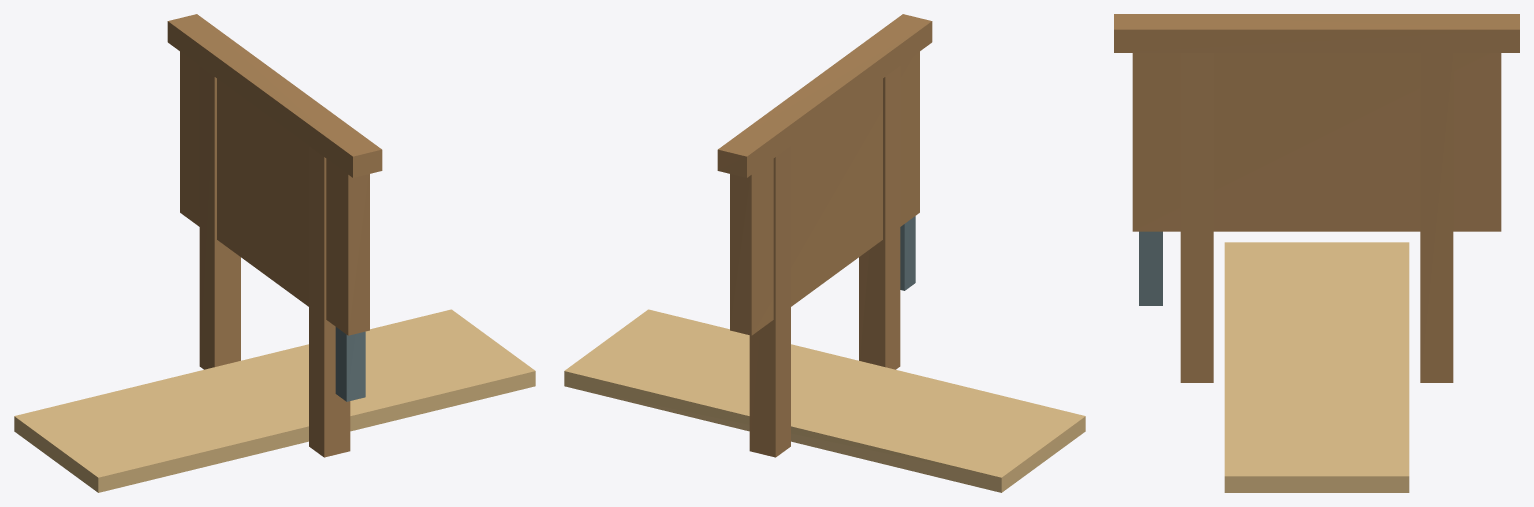
Rendered from Farm-sign.glb.
The picture shows the model from 3 angles, left to right: view 1: azimuth 30°, elevation 25°; view 2: azimuth 150°, elevation 25°; view 3: azimuth 270°, elevation 25°; orthographic projection. The views are drawn at different scales.
Visible parts, largest first — view 1: farm-sign-static-sign-earth, farm-sign-static-sign-teal, farm-sign-static-sign-timber, farm-sign-static-sign-trim, farm-sign-static-sign-metal; view 2: farm-sign-static-sign-earth, farm-sign-static-sign-teal, farm-sign-static-sign-timber, farm-sign-static-sign-trim, farm-sign-static-sign-metal; view 3: farm-sign-static-sign-teal, farm-sign-static-sign-earth, farm-sign-static-sign-timber, farm-sign-static-sign-trim, farm-sign-static-sign-metal.
Boxes of the visible parts, left/top/right/bottom form: farm-sign-static-sign-earth: left=14, top=309, right=535, bottom=492; farm-sign-static-sign-teal: left=180, top=51, right=369, bottom=335; farm-sign-static-sign-timber: left=199, top=66, right=350, bottom=457; farm-sign-static-sign-trim: left=167, top=14, right=382, bottom=177; farm-sign-static-sign-metal: left=335, top=327, right=365, bottom=401; farm-sign-static-sign-earth: left=564, top=309, right=1085, bottom=492; farm-sign-static-sign-teal: left=730, top=51, right=919, bottom=335; farm-sign-static-sign-timber: left=749, top=66, right=900, bottom=457; farm-sign-static-sign-trim: left=717, top=14, right=932, bottom=177; farm-sign-static-sign-metal: left=900, top=216, right=915, bottom=290; farm-sign-static-sign-teal: left=1132, top=53, right=1501, bottom=231; farm-sign-static-sign-earth: left=1224, top=242, right=1409, bottom=492; farm-sign-static-sign-timber: left=1180, top=53, right=1453, bottom=382; farm-sign-static-sign-trim: left=1114, top=14, right=1519, bottom=52; farm-sign-static-sign-metal: left=1139, top=231, right=1162, bottom=305.
Size of the model in its own units: 3 by 2.12 by 2.2.
